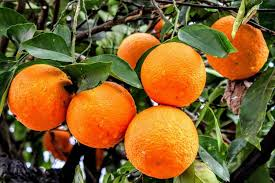orange: (125, 102, 200, 178), (67, 78, 137, 150), (5, 65, 75, 132), (143, 41, 208, 108), (203, 15, 270, 80), (114, 31, 163, 82)
